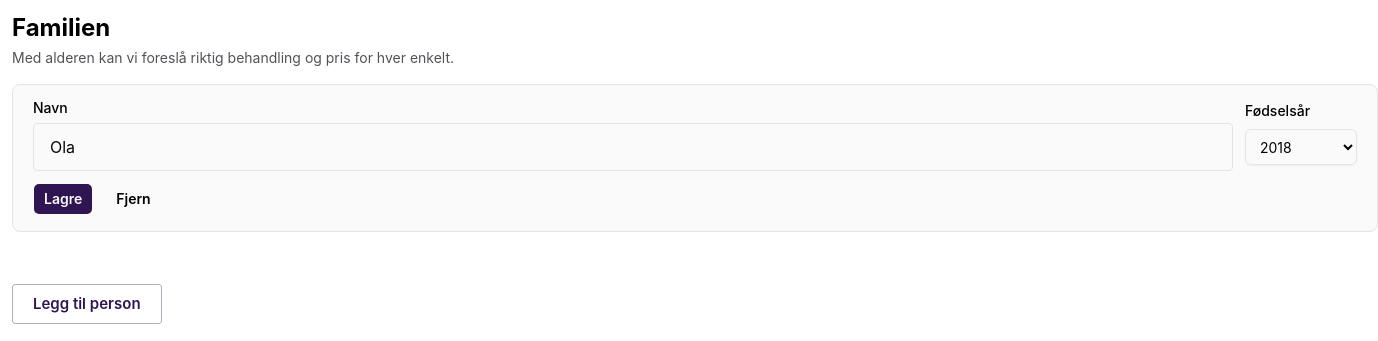
FamilyEditor › optimistic save › hides a removed child at once and puts them back when the removal fails
Click the button with aria-label "Fjern Ola" at (134, 199), box [105,183,162,215]
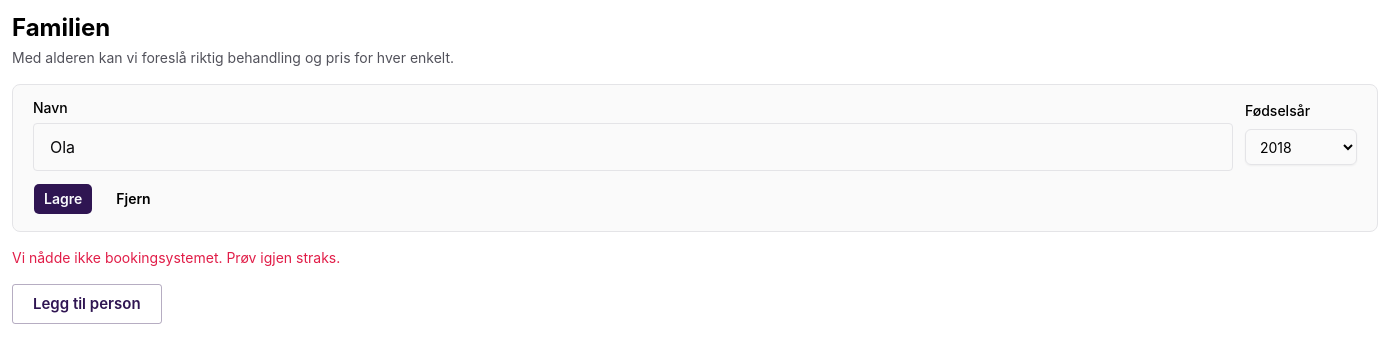
expect the field labelled "Navn" holds "Ola": met, box [33,123,1233,171]
expect the text "Vi nådde ikke bookingsystemet. Prøv igjen straks." is shown: met, box [12,249,340,266]
